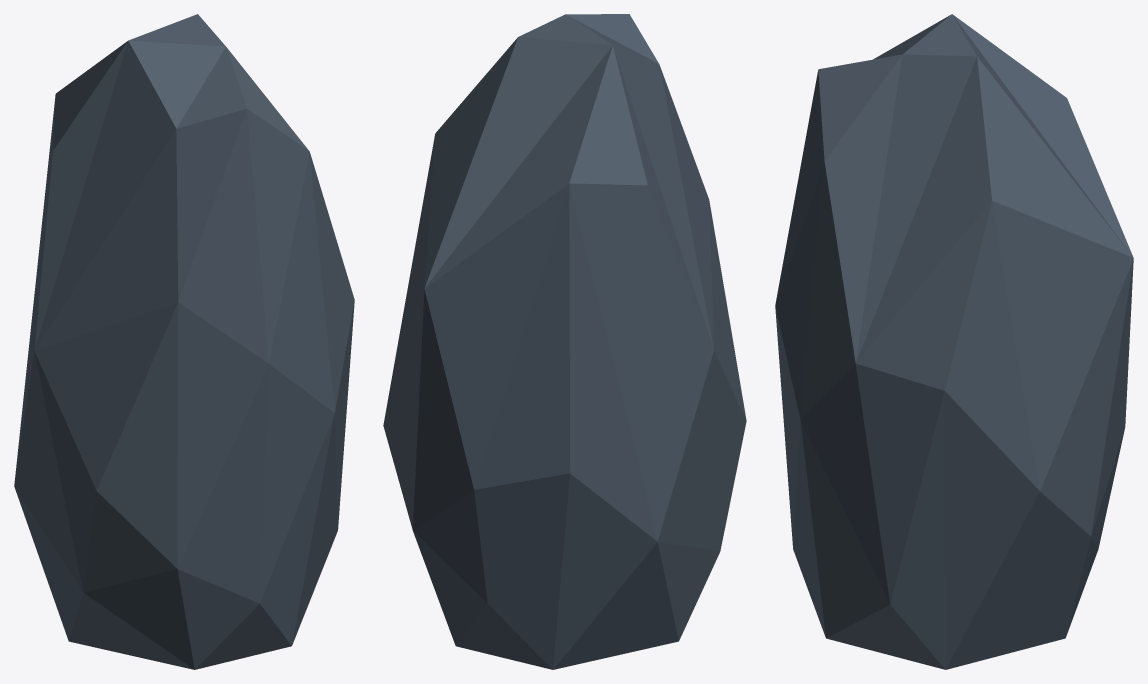
File: AW_Rock05.fbx
3 renders of one model, left to right at view 1: azimuth 30°, elevation 25°; view 2: azimuth 150°, elevation 25°; view 3: azimuth 270°, elevation 25°, orthographic.
Parts seen in each view (by area): view 1: AW_Rock05; view 2: AW_Rock05; view 3: AW_Rock05.
Part boxes in pixels (<box>): AW_Rock05: <box>14,14,354,669</box>; AW_Rock05: <box>383,14,746,669</box>; AW_Rock05: <box>775,14,1133,669</box>.
Size of the model in its own units: 43.62 by 81.76 by 46.09.
1 material, 1 textured.
